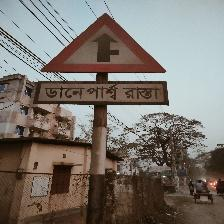Side-road-right: (36, 11, 171, 112)
